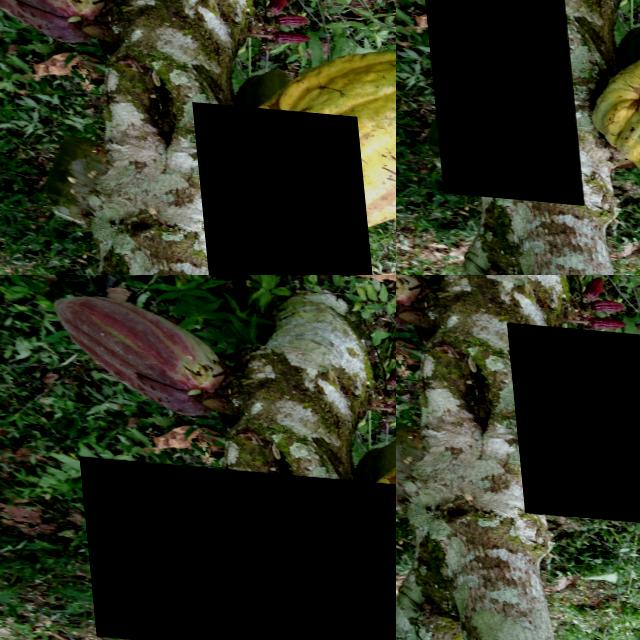Fitoftora: (273, 275, 393, 357), (594, 57, 615, 97)
Monilia: (74, 454, 396, 640)
Sana: (186, 95, 369, 275), (418, 0, 575, 199), (502, 316, 640, 526), (574, 284, 632, 309), (575, 304, 628, 327), (577, 275, 606, 297), (0, 437, 24, 456)
